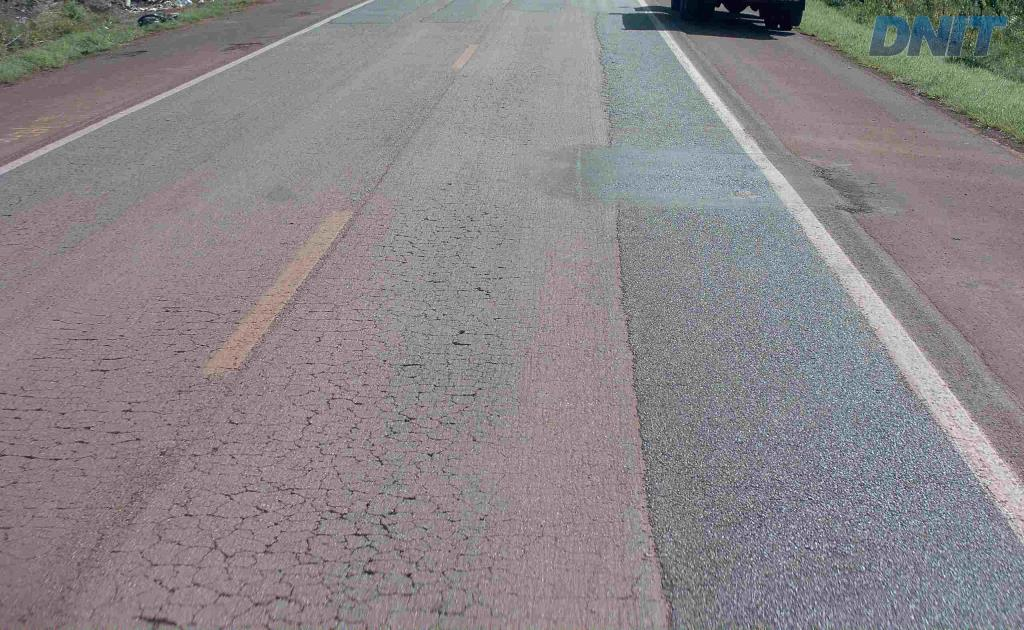crack: (288, 520, 424, 605), (169, 527, 250, 588), (432, 351, 513, 404), (337, 500, 404, 561), (242, 568, 301, 605), (387, 355, 432, 389)
